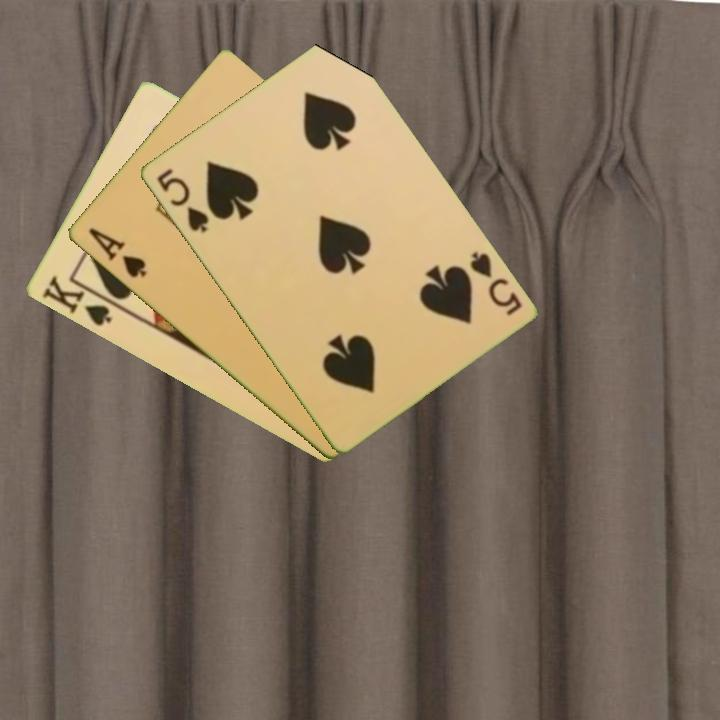5s: (152, 164, 212, 236), (465, 247, 525, 319)
As: (84, 224, 150, 281)
Ks: (38, 272, 114, 330)
